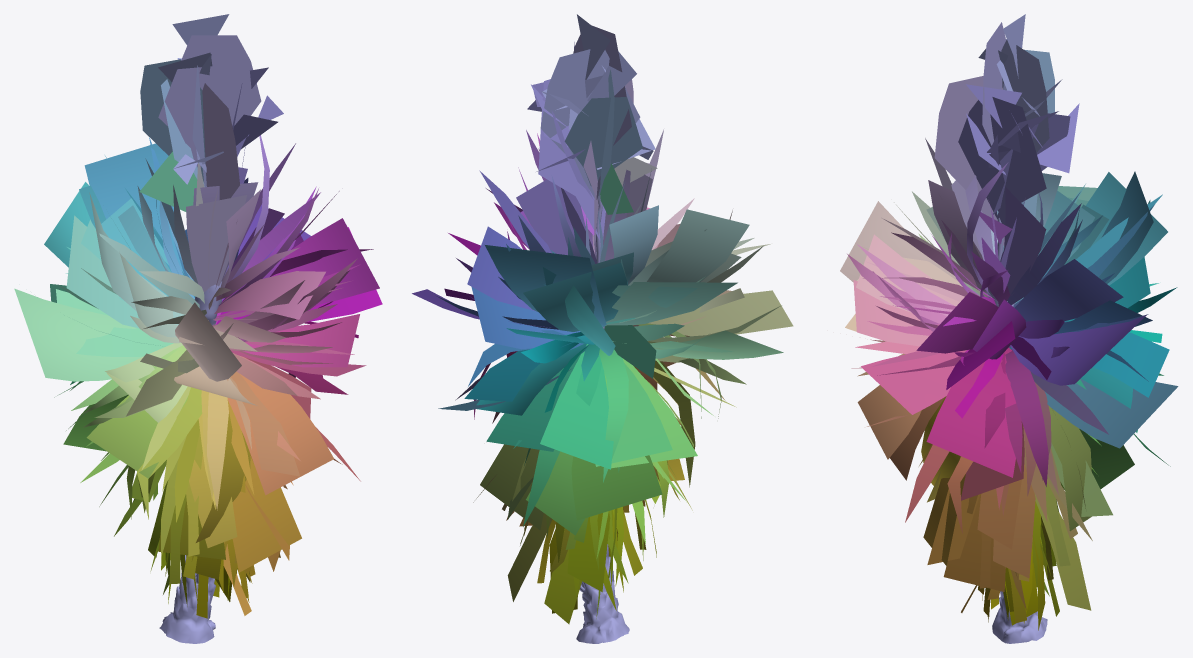
3 renders of one model, left to right at view 1: azimuth 30°, elevation 25°; view 2: azimuth 150°, elevation 25°; view 3: azimuth 270°, elevation 25°, orthographic.
Parts seen in each view (by area): view 1: SM_BS_YuccaMA1_4m_HD; view 2: SM_BS_YuccaMA1_4m_HD; view 3: SM_BS_YuccaMA1_4m_HD.
Boxes of the visible parts, x1,y1,x2,y2 form: SM_BS_YuccaMA1_4m_HD: (14, 14, 382, 643); SM_BS_YuccaMA1_4m_HD: (412, 14, 793, 643); SM_BS_YuccaMA1_4m_HD: (840, 14, 1178, 643).
Bounding box in the file's own units: 88.79 × 94.99 × 171.
